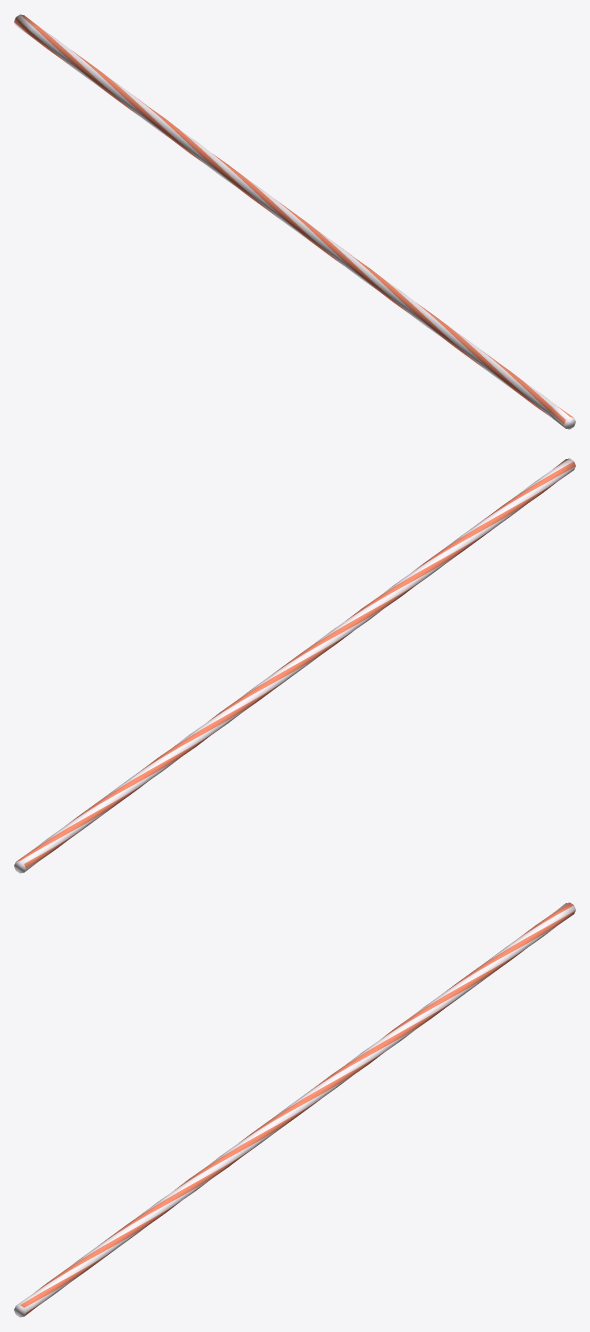
The model's file is Rail.fbx.
3 views of the same model, one above another, from view 1: azimuth 30°, elevation 25°; view 2: azimuth 150°, elevation 25°; view 3: azimuth 330°, elevation 25° (orthographic).
Parts seen in each view (by area): view 1: Rail; view 2: Rail; view 3: Rail.
Part boxes in pixels (left/top/right/bottom): Rail: left=14, top=14, right=575, bottom=429; Rail: left=14, top=458, right=575, bottom=873; Rail: left=14, top=902, right=575, bottom=1317.
Size of the model in its own units: 20 by 20 by 1600.
